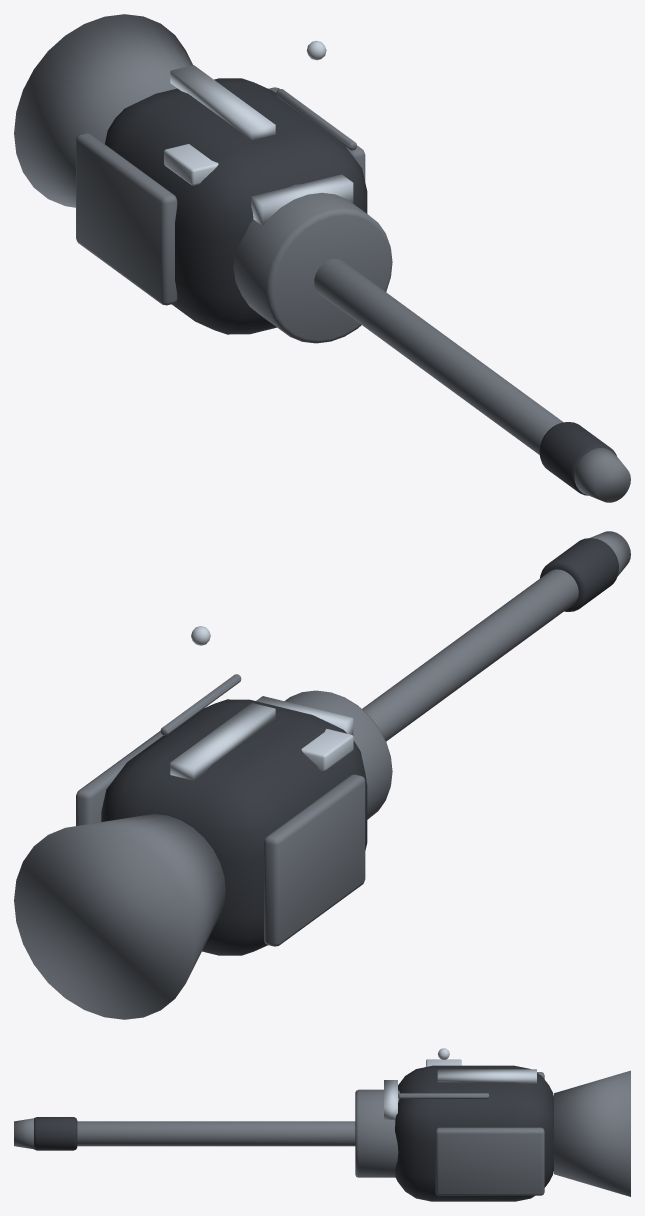
The model's file is weapon_drone_mg.glb.
3 views of the same model, one above another, from view 1: azimuth 30°, elevation 25°; view 2: azimuth 150°, elevation 25°; view 3: azimuth 270°, elevation 25° (orthographic). The views are drawn at different scales.
Visible parts, largest first — view 1: weapon_drone_mg; view 2: weapon_drone_mg; view 3: weapon_drone_mg.
Boxes of the visible parts, x1,y1,x2,y2 form: weapon_drone_mg: (14,14,630,502); weapon_drone_mg: (14,531,630,1019); weapon_drone_mg: (14,1048,630,1201).
Bounding box in the file's own units: 0.5184 × 0.64 × 2.24.
